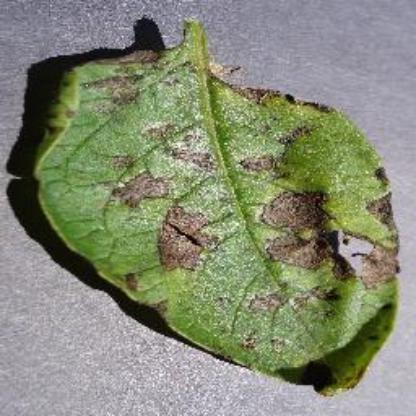Early-Blight: (26, 12, 400, 396)
